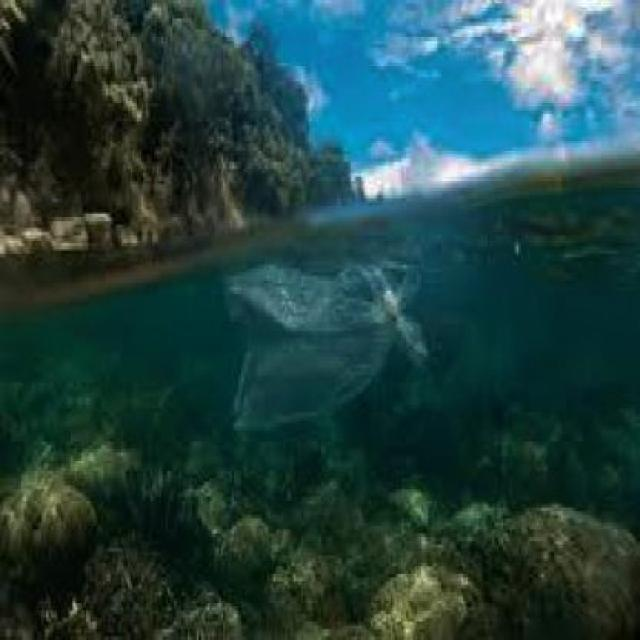pbag: (222, 254, 435, 434)
